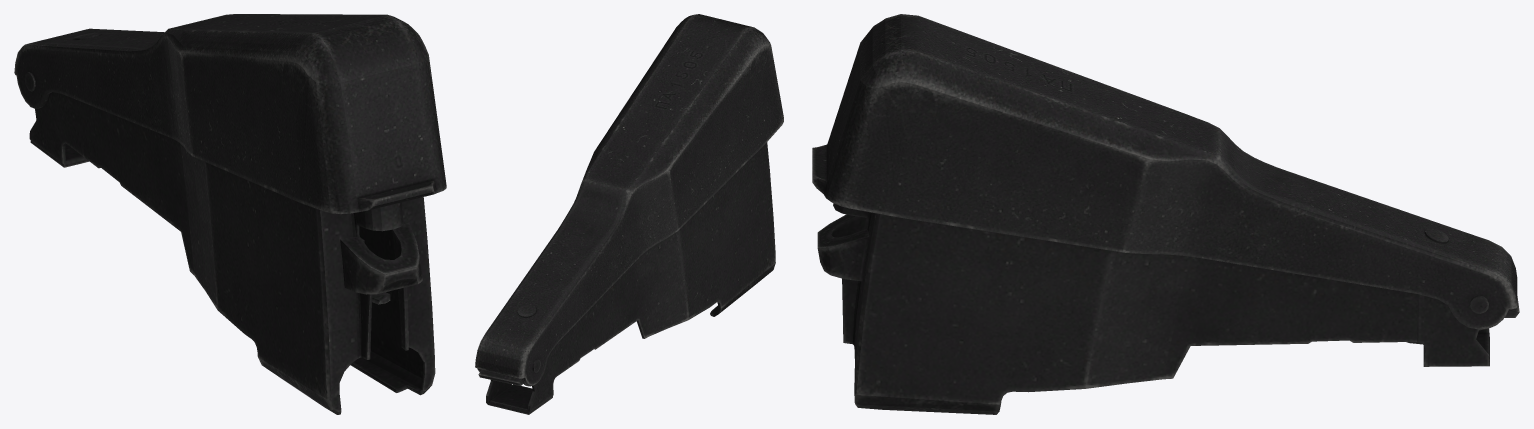
3 renders of one model, left to right at view 1: azimuth 30°, elevation 25°; view 2: azimuth 150°, elevation 25°; view 3: azimuth 270°, elevation 25°, orthographic. The views are drawn at different scales.
Parts seen in each view (by area): view 1: TW_587df3a12459772c28142567_PZ_Import; view 2: TW_587df3a12459772c28142567_PZ_Import; view 3: TW_587df3a12459772c28142567_PZ_Import.
Boxes of the visible parts, box(x1,y1,x2,y2) form: TW_587df3a12459772c28142567_PZ_Import: box(14, 14, 446, 414); TW_587df3a12459772c28142567_PZ_Import: box(475, 14, 783, 414); TW_587df3a12459772c28142567_PZ_Import: box(812, 14, 1519, 414).
Bounding box in the file's own units: 0.0147 × 0.076 × 0.0433.
Materials: 1 (1 with a texture image).
